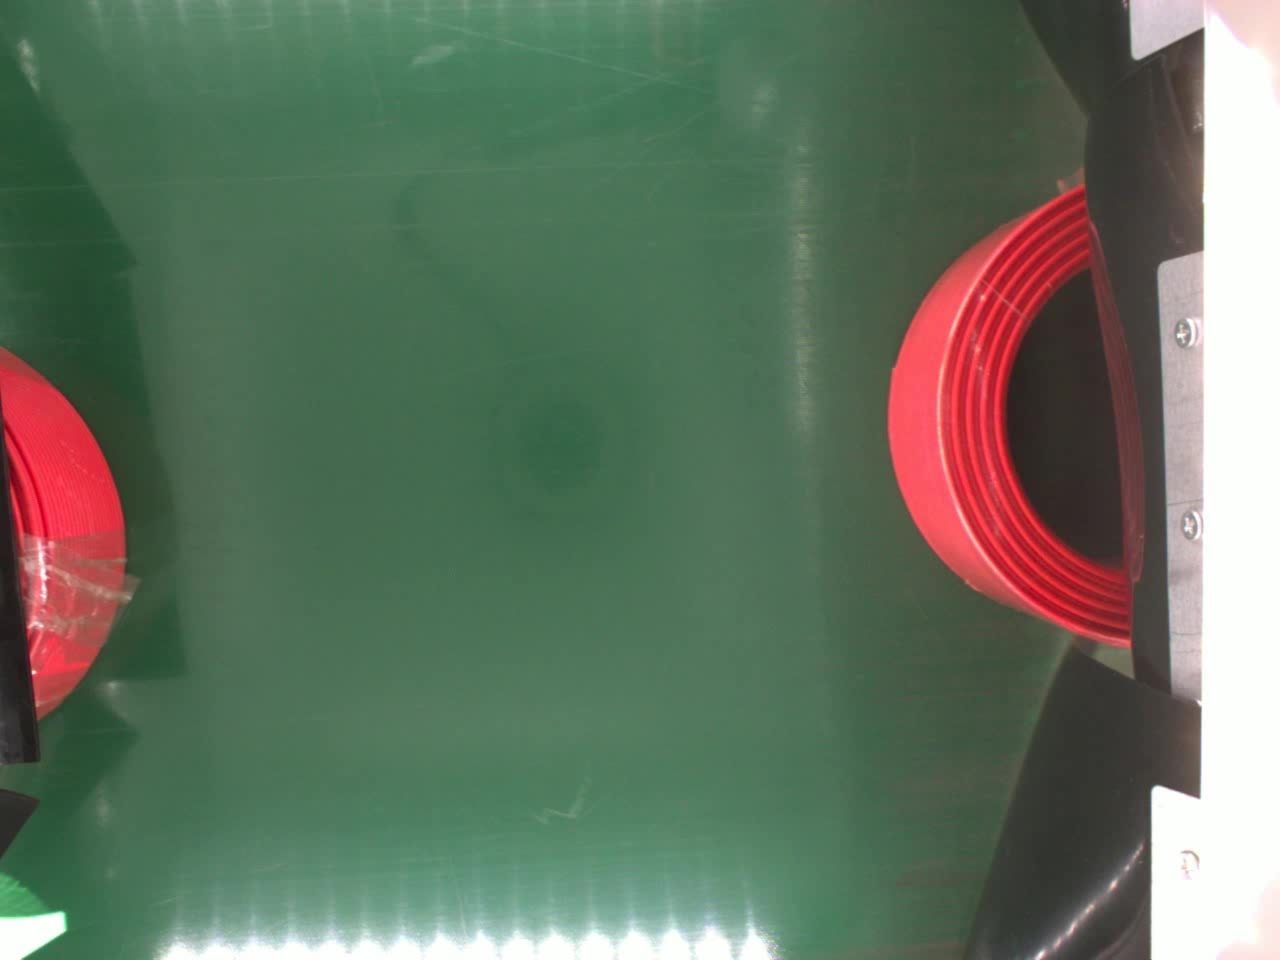red: (888, 178, 1130, 653), (0, 339, 129, 727)
